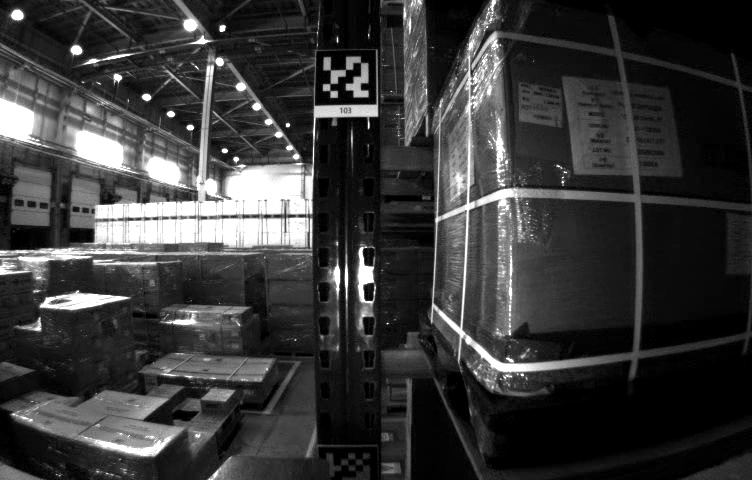True Barcode: (518, 79, 565, 131)
